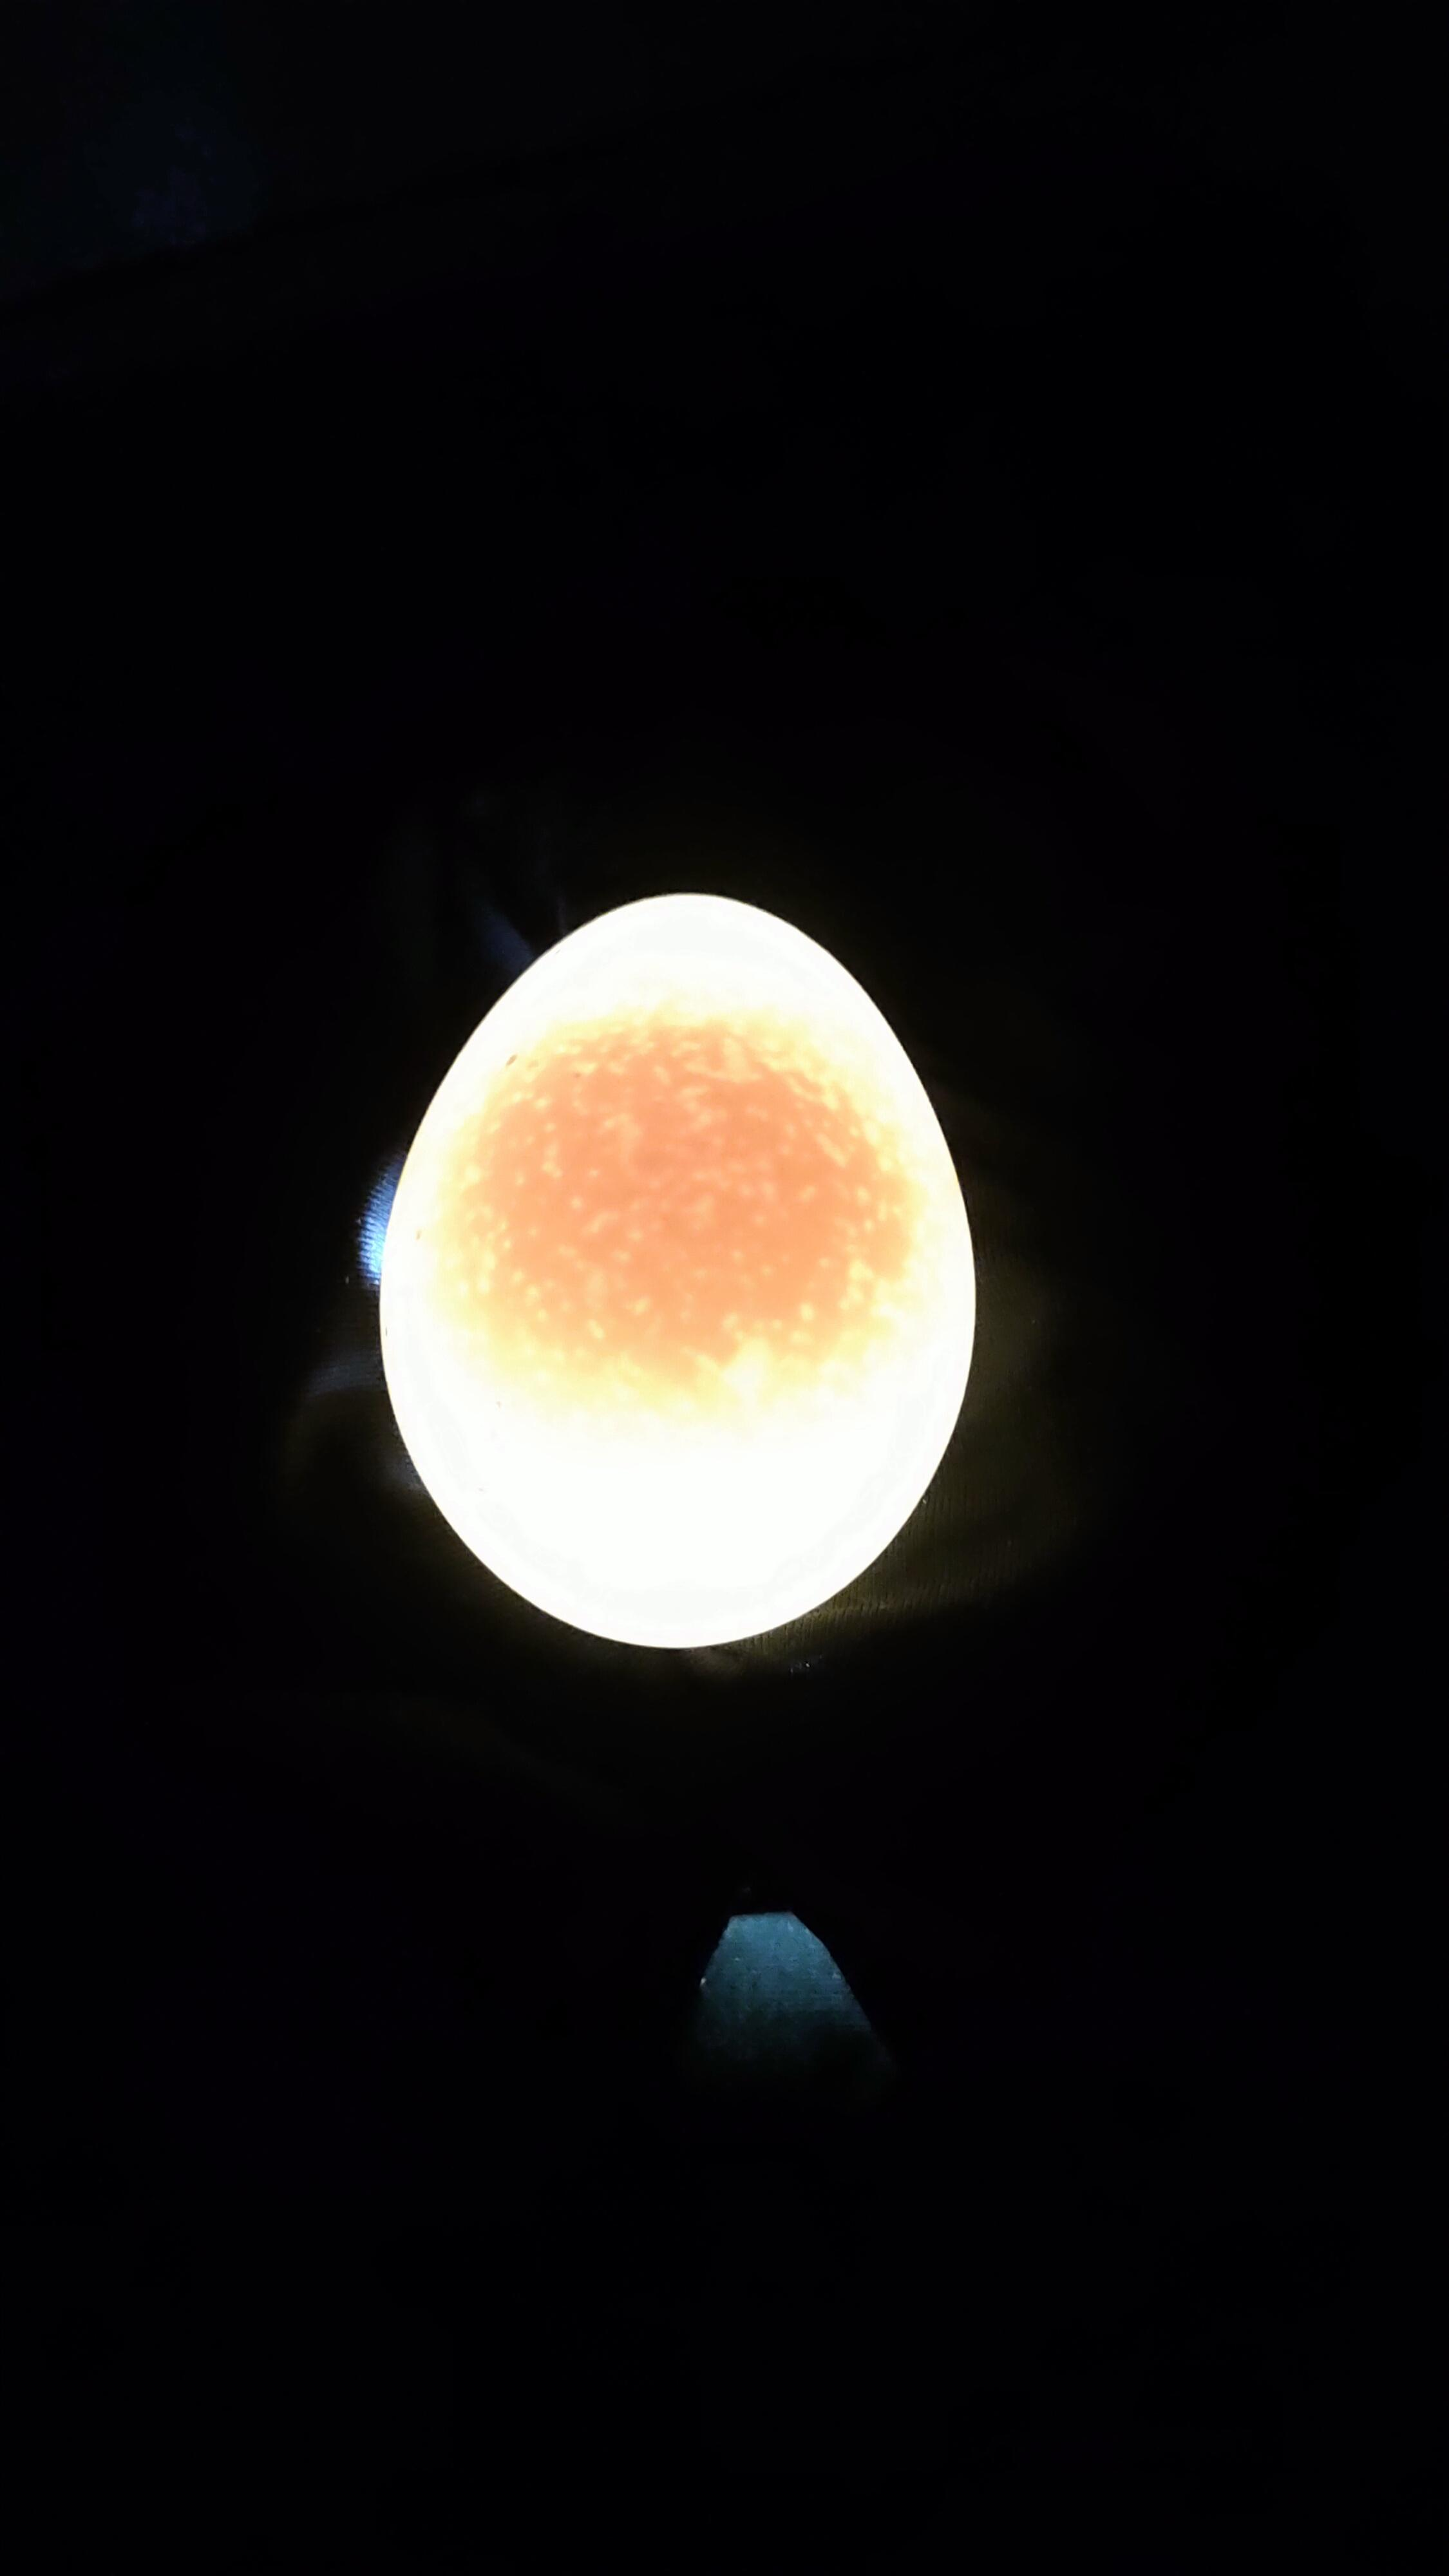Inedible: (361, 786, 1005, 1720)
